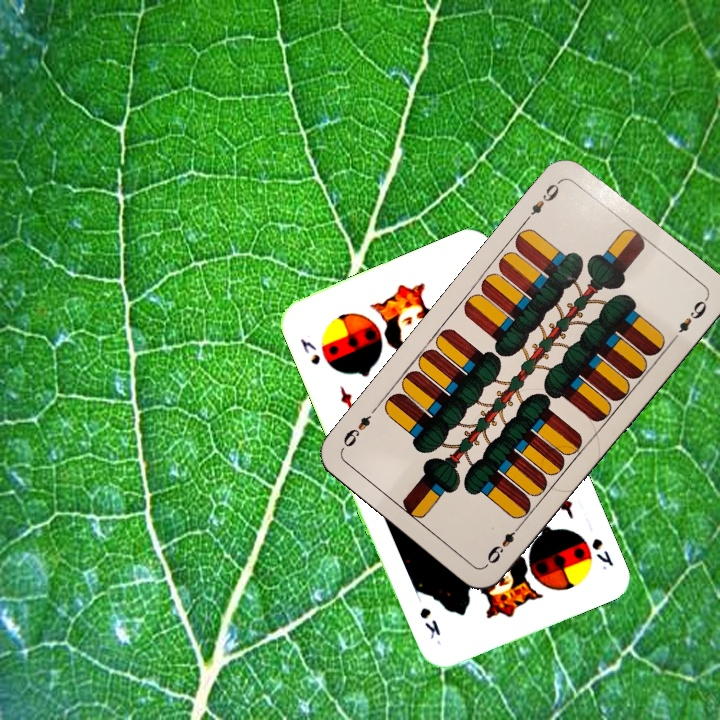E9: (520, 176, 564, 225), (482, 519, 525, 569)
SK: (587, 534, 617, 572), (296, 334, 323, 368)
